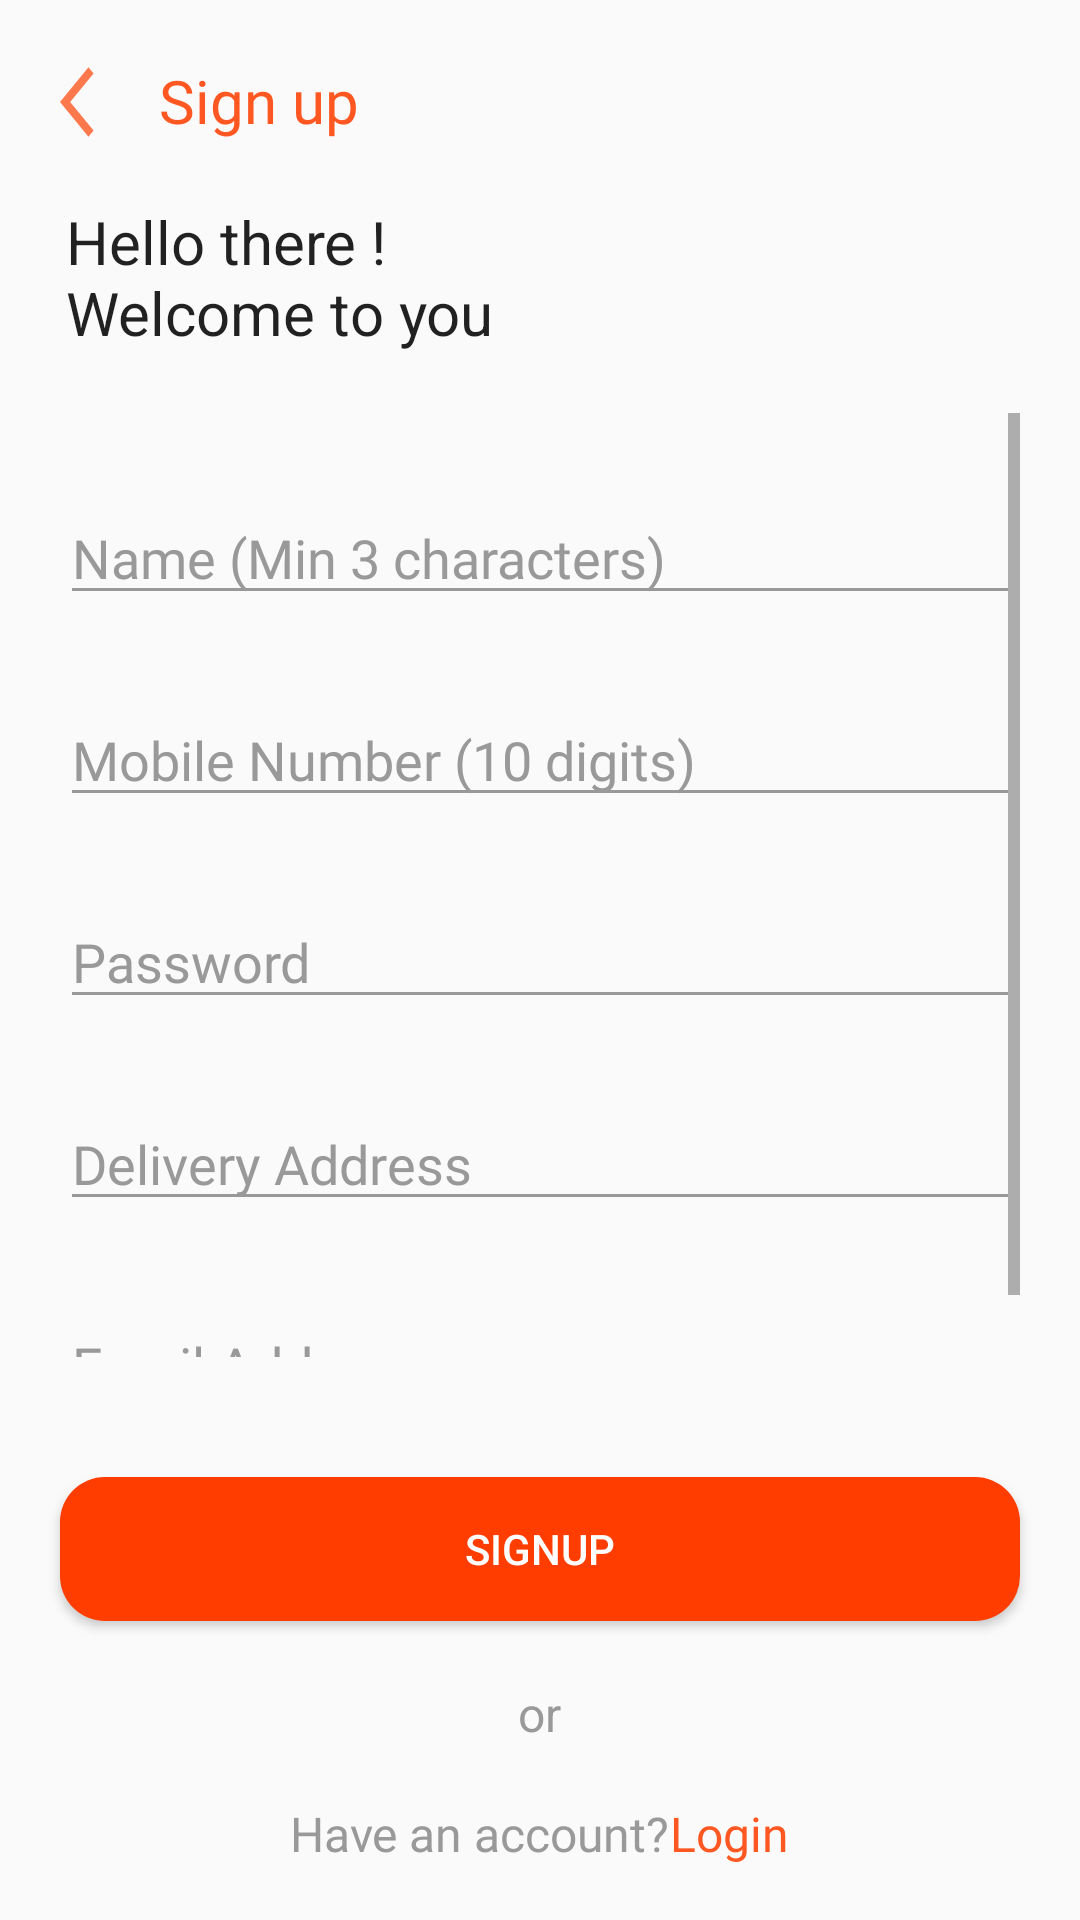

Locate icon controls on the screen. Image size 1080*1920, boxes as [x1,y1,x2,y2].
back: [60,67,94,137]
